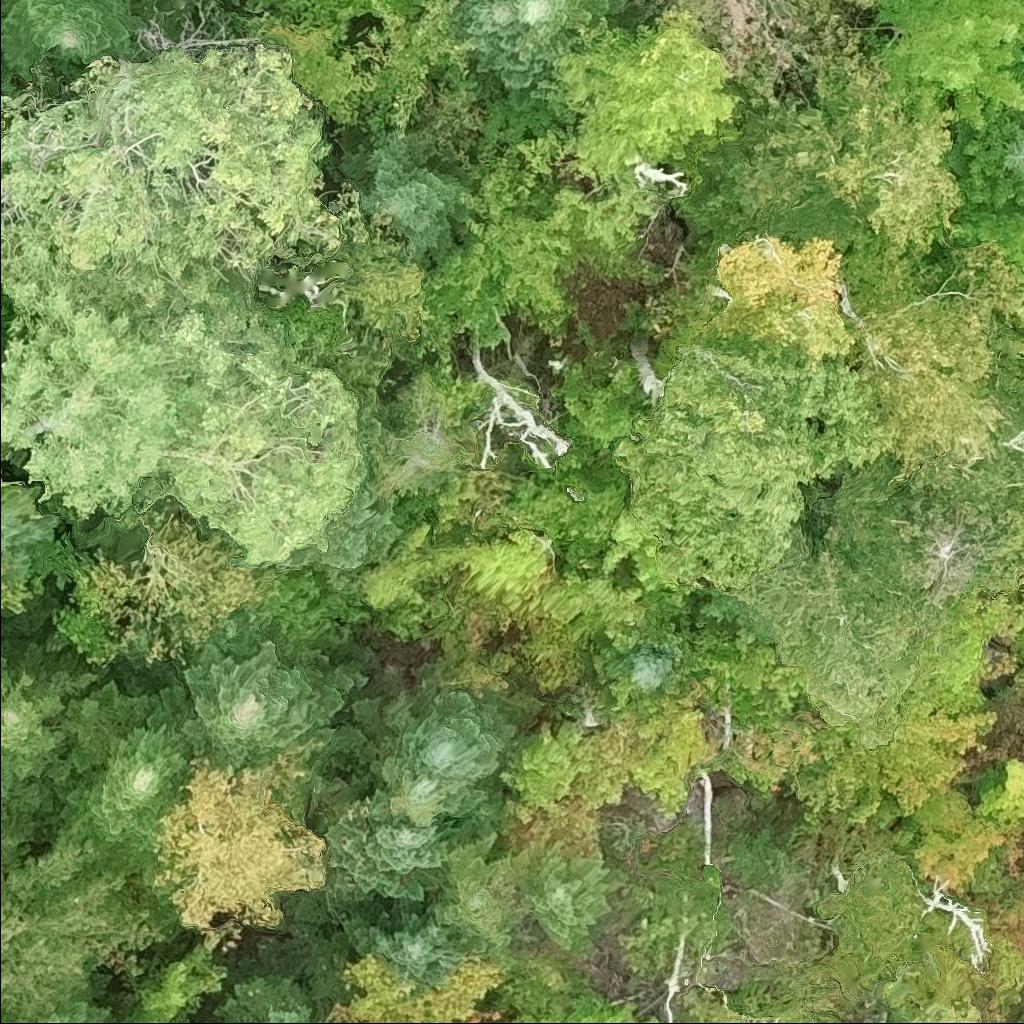crown: (0, 254, 370, 569), (0, 41, 340, 317), (686, 10, 968, 313), (730, 526, 962, 748), (428, 126, 663, 345), (840, 237, 1023, 505), (613, 350, 810, 591), (143, 607, 376, 791), (270, 768, 477, 936), (151, 737, 326, 932), (0, 824, 169, 1023), (549, 6, 744, 178), (55, 679, 194, 919), (93, 504, 270, 666), (830, 670, 1001, 824), (645, 0, 836, 120), (381, 656, 547, 786), (350, 694, 509, 825), (704, 232, 853, 369), (0, 639, 104, 828), (872, 0, 1023, 129), (816, 847, 947, 993), (341, 130, 477, 268), (352, 0, 479, 143), (236, 0, 375, 121), (0, 0, 154, 103), (324, 901, 499, 990), (284, 474, 413, 593), (353, 516, 468, 642), (517, 838, 629, 957), (339, 951, 509, 1023), (629, 677, 708, 819), (435, 830, 530, 948), (910, 784, 1006, 893), (496, 719, 596, 822), (707, 627, 800, 733), (452, 0, 555, 94), (120, 944, 230, 1023), (516, 0, 629, 75), (568, 715, 654, 810), (453, 532, 548, 610), (727, 726, 821, 793), (0, 483, 60, 584), (514, 988, 662, 1023), (213, 972, 313, 1023), (602, 508, 662, 592), (951, 208, 1023, 277), (973, 756, 1023, 834), (622, 639, 679, 696), (35, 987, 110, 1023), (997, 492, 1023, 571), (0, 566, 36, 612), (847, 0, 876, 9), (180, 1018, 205, 1023), (0, 466, 5, 482), (318, 1020, 326, 1023), (427, 0, 433, 1)
